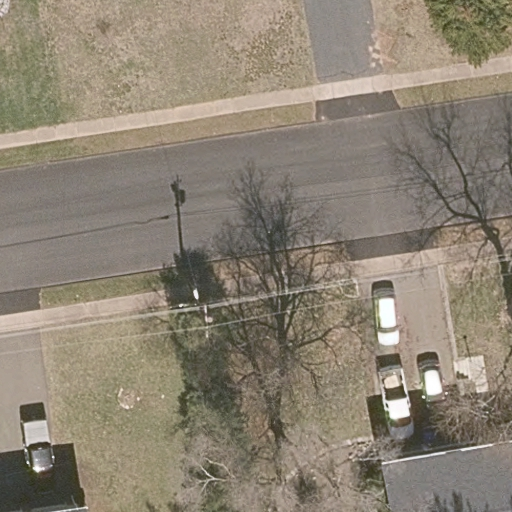DT: (177, 262, 213, 337)
